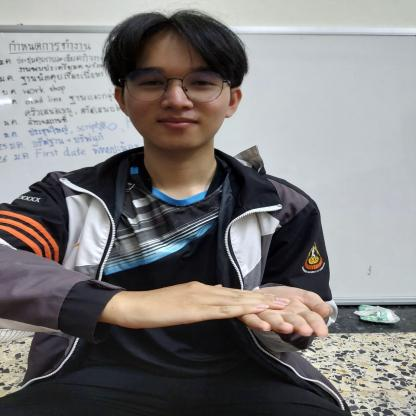Sorry: (115, 266, 341, 346)
